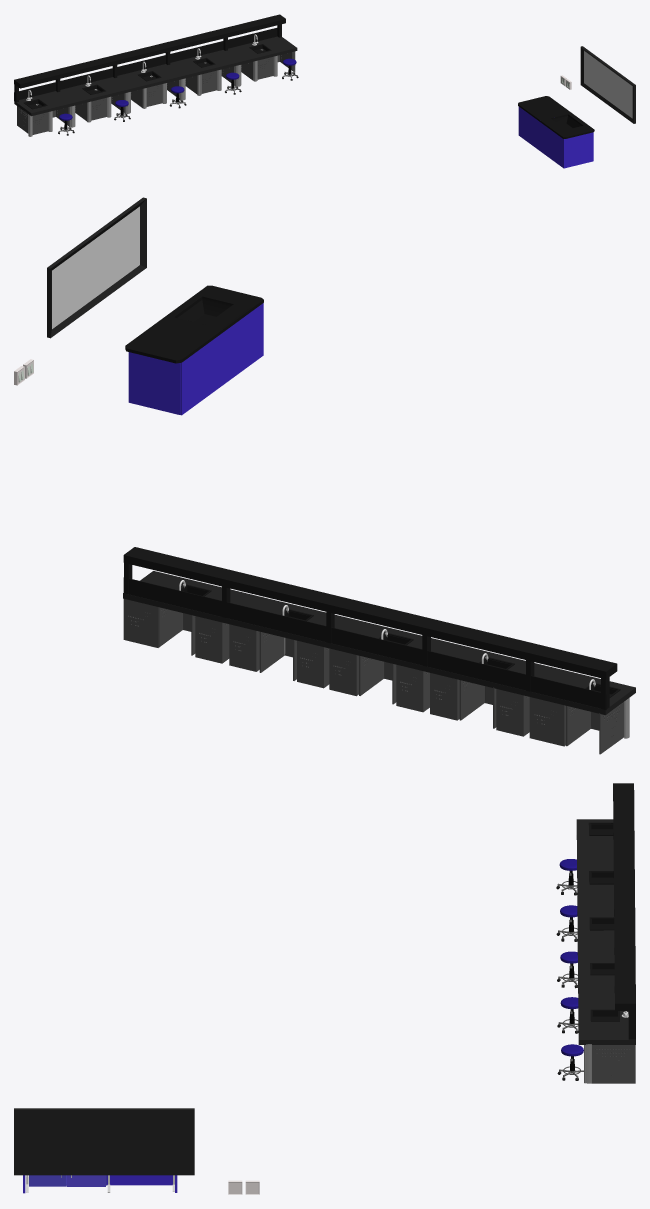
File: R bench.fbx
3 views of the same model, one above another, from view 1: azimuth 30°, elevation 25°; view 2: azimuth 150°, elevation 25°; view 3: azimuth 270°, elevation 25° (orthographic). The views are drawn at different scales.
Parts seen in each view (by area): view 1: Cube.062, Cube.051, Cube.045, Cube.191, Cube.192, Cube.196, Cube.193, Cylinder.328, Cylinder.324, Cylinder.321, Cylinder.326, Cylinder.320; view 2: Cube.051, Cube.062, Cube.045, Cube.191, Cube.192, Cube.196, Cube.194, Cylinder.328, Cube.064, Cube.048, Cube.050, Cube.065 (+9 smaller); view 3: Cube.191, Cube.062, Cube.051, Cube.048, Cube.194.
Boxes of the visible parts, x1,y1,x2,y2 form: Cube.062: (14, 36, 297, 116); Cube.051: (14, 14, 285, 88); Cube.045: (14, 28, 277, 101); Cube.191: (580, 46, 635, 123); Cube.192: (518, 96, 594, 138); Cube.196: (518, 106, 564, 168); Cube.193: (565, 132, 593, 168); Cylinder.328: (17, 106, 48, 134); Cylinder.324: (142, 84, 162, 107); Cylinder.321: (201, 70, 217, 93); Cylinder.326: (91, 97, 107, 120); Cylinder.320: (257, 56, 273, 79); Cube.051: (123, 547, 617, 679); Cube.062: (123, 571, 635, 715); Cube.045: (123, 577, 606, 710); Cube.191: (47, 197, 146, 338); Cube.192: (125, 285, 263, 363); Cube.196: (180, 303, 263, 415); Cube.194: (128, 352, 180, 414); Cylinder.328: (566, 702, 624, 754); Cube.064: (529, 697, 565, 746); Cube.048: (123, 599, 158, 647); Cube.050: (195, 616, 229, 663); Cube.065: (496, 689, 529, 736); Cube.191: (14, 1108, 194, 1175); Cube.062: (576, 819, 635, 1044); Cube.051: (613, 783, 635, 1010); Cube.048: (592, 1045, 635, 1083); Cube.194: (106, 1175, 177, 1192).
Bounding box in the file's own units: 2373 × 355 × 1717.
